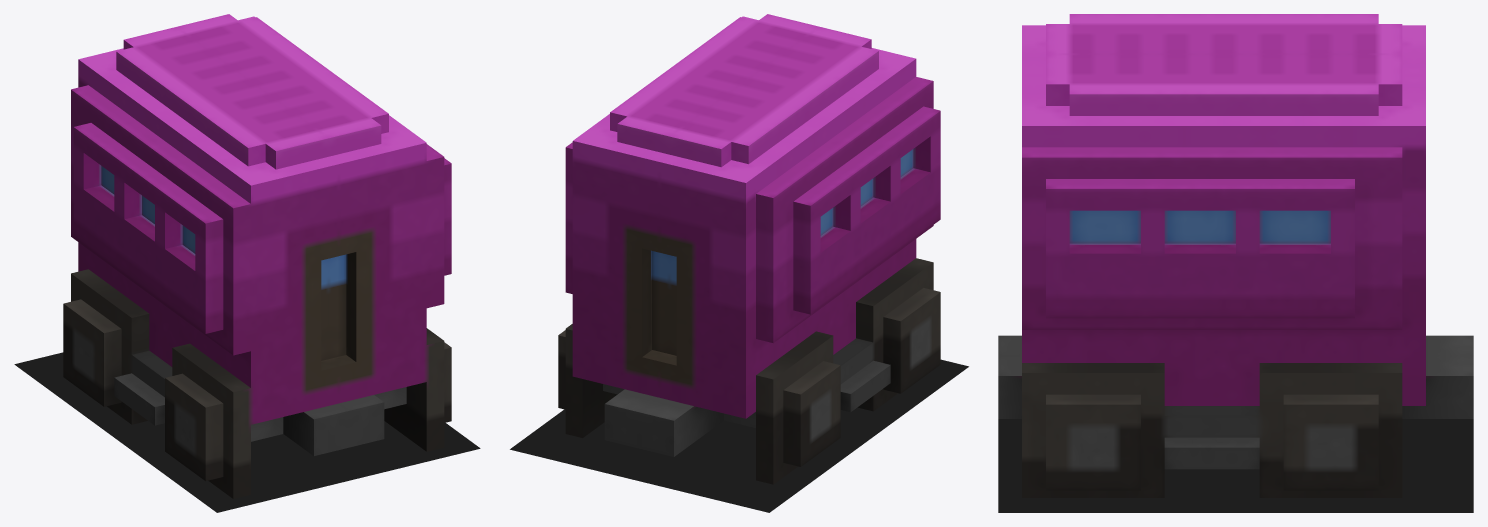
The model's file is train_tail.FBX.
3 renders of one model, left to right at view 1: azimuth 30°, elevation 25°; view 2: azimuth 150°, elevation 25°; view 3: azimuth 270°, elevation 25°, orthographic. The views are drawn at different scales.
Visible parts, largest first — view 1: train_tail, train_body_soft_shadow; view 2: train_tail, train_body_soft_shadow; view 3: train_tail, train_body_soft_shadow.
Part boxes in pixels (x1,y1,x2,y2): train_tail: (63, 14, 451, 498); train_body_soft_shadow: (14, 352, 480, 512); train_tail: (558, 14, 940, 484); train_body_soft_shadow: (510, 359, 968, 512); train_tail: (998, 14, 1473, 497); train_body_soft_shadow: (998, 419, 1473, 512).
Bounding box in the file's own units: 750 × 900 × 1000.
